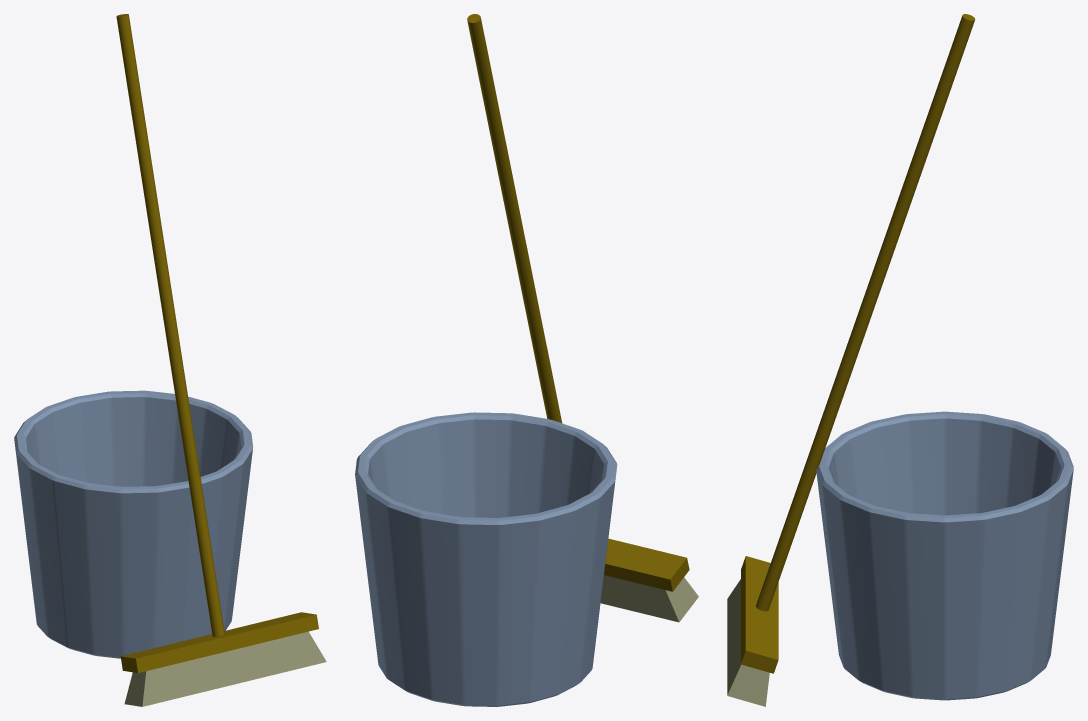
Rendered from cuboyEscoba.fbx.
3 renders of one model, left to right at view 1: azimuth 30°, elevation 25°; view 2: azimuth 150°, elevation 25°; view 3: azimuth 270°, elevation 25°, orthographic. The views are drawn at different scales.
Visible parts, largest first — view 1: cubo1, pCylinder1, pCube2, pCube1; view 2: cubo1, pCylinder1, pCube1, pCube2; view 3: cubo1, pCylinder1, pCube1, pCube2.
Part boxes in pixels (left/top/right/bottom): cubo1: left=14, top=390, right=253, bottom=658; pCylinder1: left=116, top=14, right=224, bottom=636; pCube2: left=124, top=631, right=326, bottom=706; pCube1: left=120, top=612, right=318, bottom=672; cubo1: left=355, top=412, right=617, bottom=706; pCylinder1: left=467, top=14, right=561, bottom=422; pCube1: left=604, top=538, right=689, bottom=591; pCube2: left=600, top=575, right=698, bottom=622; cubo1: left=816, top=411, right=1073, bottom=700; pCylinder1: left=755, top=14, right=975, bottom=611; pCube1: left=741, top=556, right=778, bottom=673; pCube2: left=727, top=579, right=769, bottom=706.
Size of the model in its own units: 2.43 by 6.7 by 3.27.
